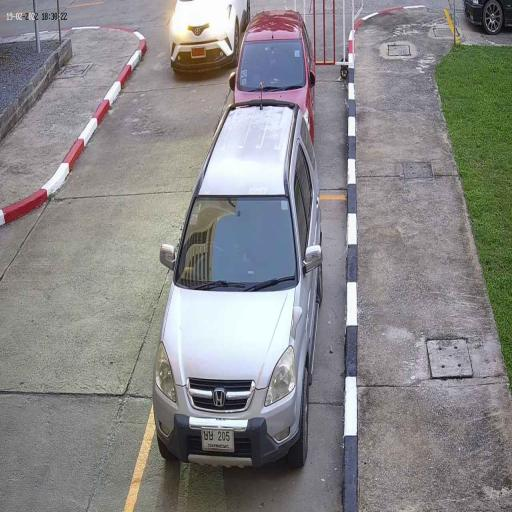car: (152, 98, 324, 469), (230, 11, 316, 148), (168, 0, 252, 74)
